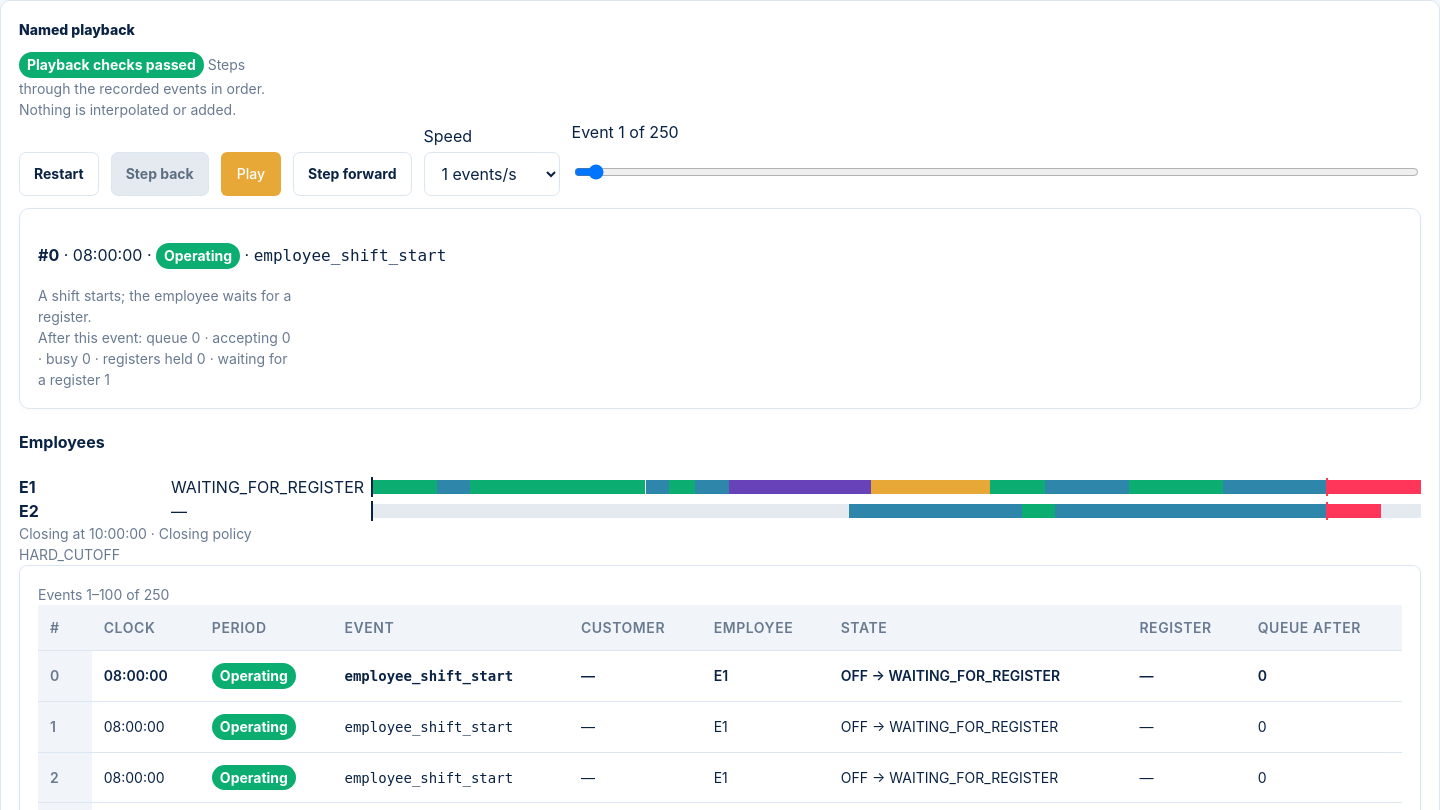
NamedSharedQueuePlayback › pages a long event log without dropping or adding events
Check: the text "Events 1–100 of 250" is shown, box [38, 586, 169, 603]
Set the slider labelled "Event 1 of 250" to "249" at {"x": 1411, "y": 172}, box [574, 150, 1419, 194]
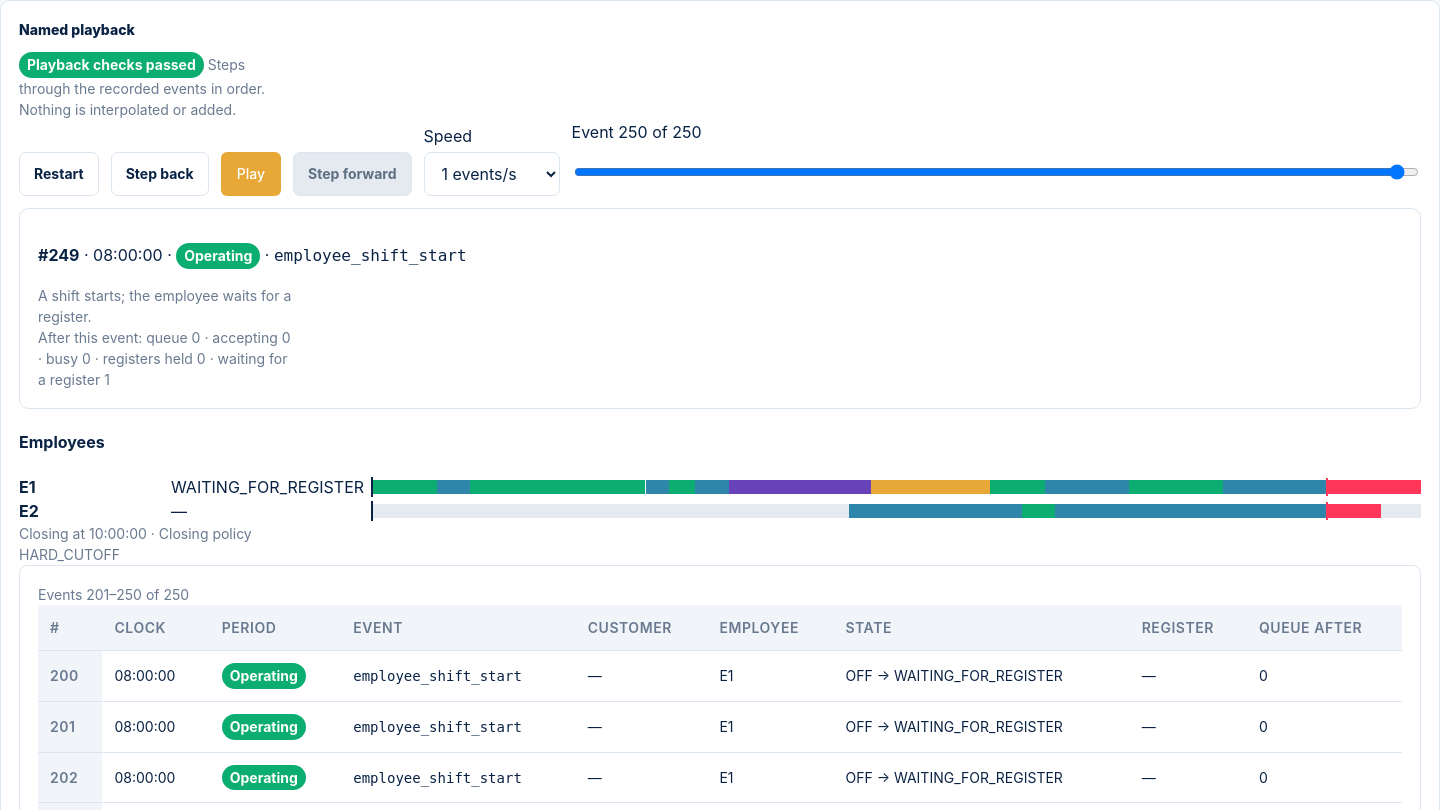
Check: the number of rows with test id "named-event-row" is 50
Check: the text "Events 201–250 of 250" is shown, box [38, 586, 189, 603]
